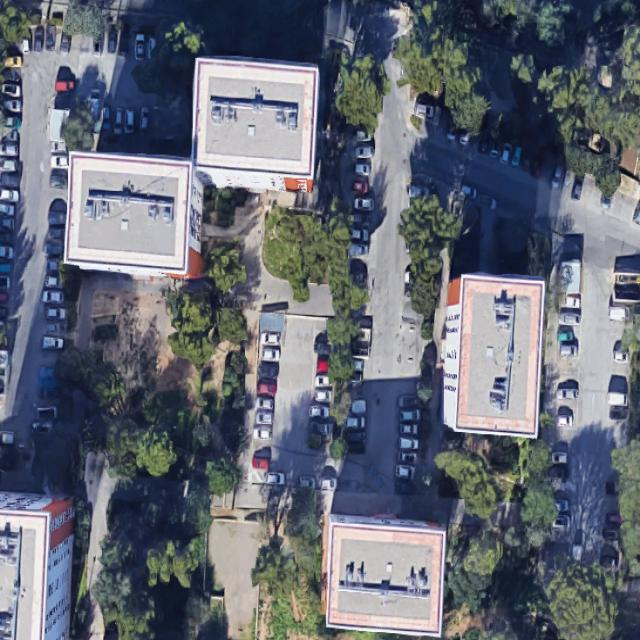immeuble: (60, 151, 208, 279), (436, 273, 547, 438), (190, 56, 319, 190), (320, 512, 447, 637), (0, 491, 75, 639)
